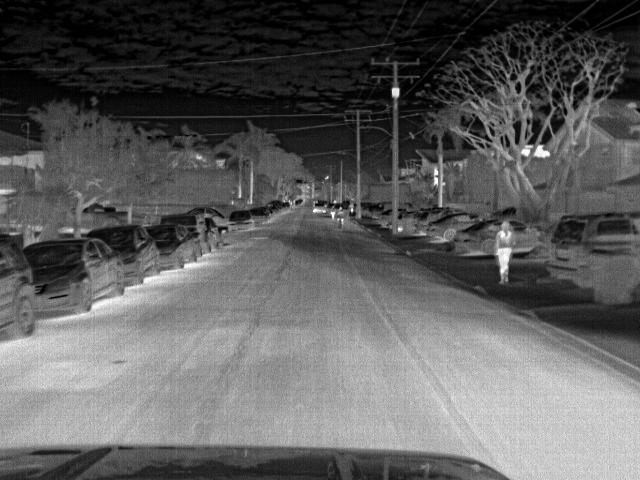car: (20, 237, 123, 316), (543, 213, 638, 282), (82, 224, 161, 287), (0, 235, 40, 347), (145, 227, 201, 269), (158, 212, 209, 257), (445, 219, 495, 257), (425, 211, 480, 243), (512, 218, 540, 258), (228, 209, 256, 233), (244, 207, 268, 225), (312, 204, 330, 216)
person: (497, 220, 513, 283)
